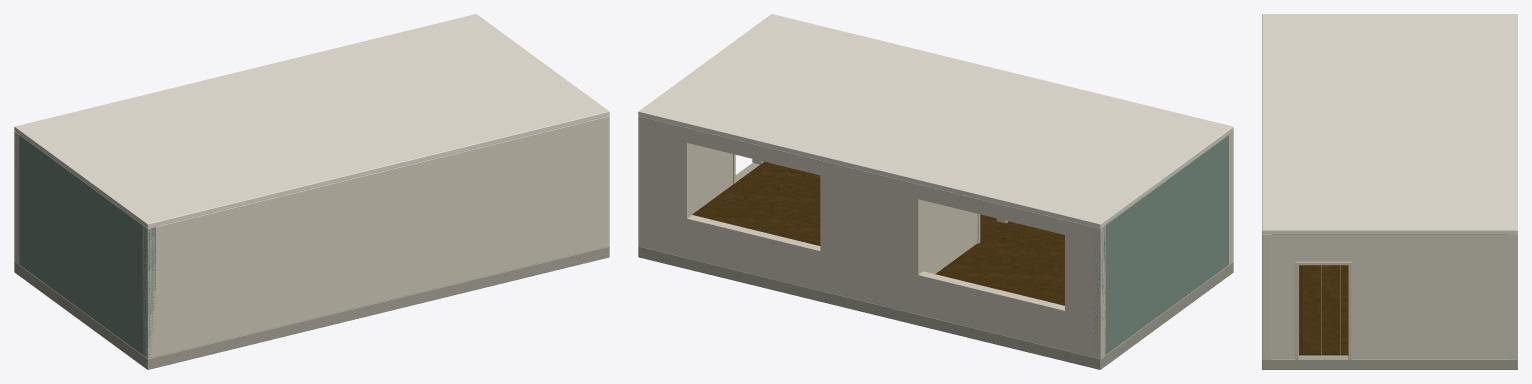
The model's file is SM_Architecture.glb.
3 views of the same model, side by side, from view 1: azimuth 30°, elevation 25°; view 2: azimuth 150°, elevation 25°; view 3: azimuth 270°, elevation 25° (orthographic). The views are drawn at different scales.
Visible parts, largest first — view 1: SM_Architecture; view 2: SM_Architecture; view 3: SM_Architecture.
Part boxes in pixels (left/top/right/bottom): SM_Architecture: left=14, top=14, right=609, bottom=369; SM_Architecture: left=638, top=14, right=1233, bottom=369; SM_Architecture: left=1262, top=14, right=1517, bottom=369.
Bounding box in the file's own units: 10.41 × 3.14 × 5.2.
6 materials, 1 textured.
